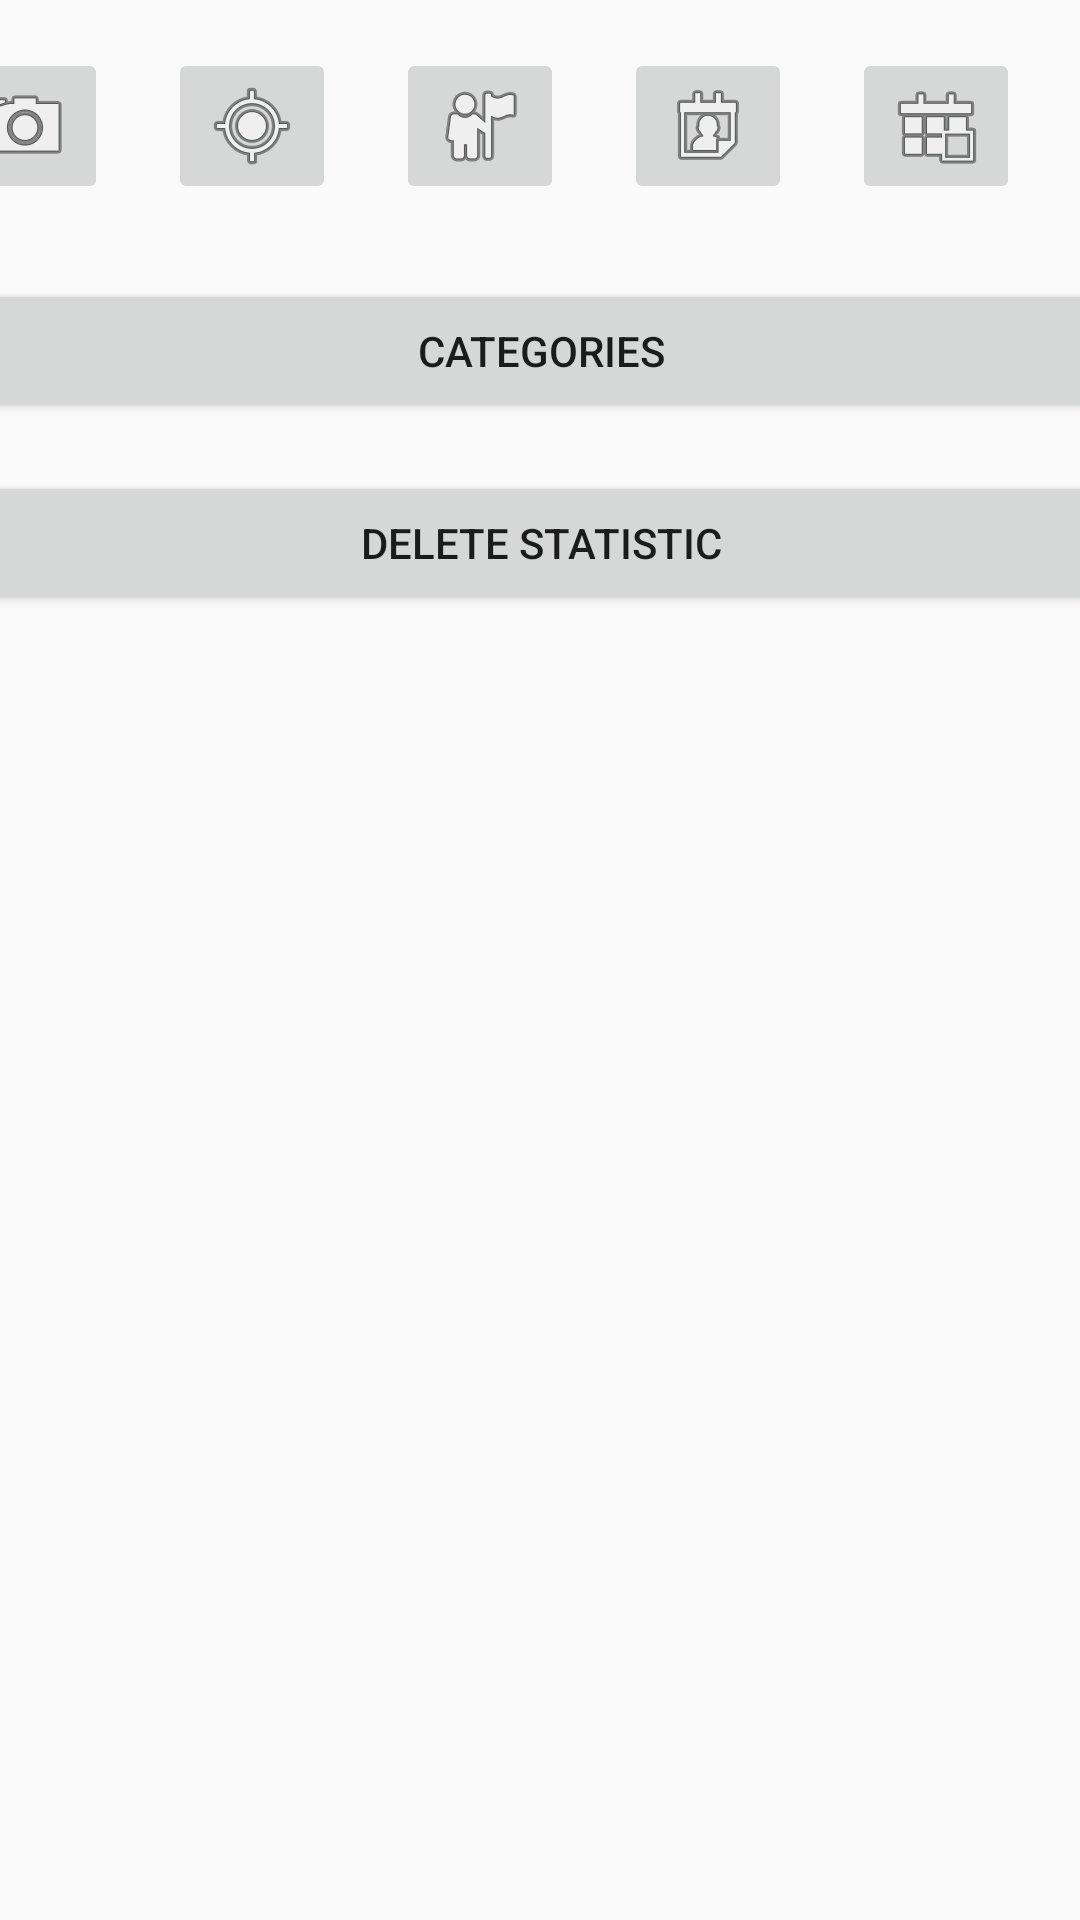

Icon click points for this 1080px x 1920px phone screenshot, format [x,y]:
mylocation: [252,126]
myplaces: [480,126]
